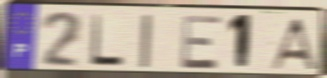1: (225, 12, 252, 73)
2: (40, 10, 84, 69)
A: (266, 17, 320, 72)
E: (180, 14, 225, 71)
I: (138, 13, 154, 70)
L: (89, 12, 126, 69)
